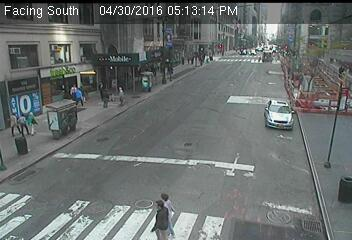neg: (295, 178, 319, 209), (222, 80, 243, 108), (304, 116, 325, 143), (230, 157, 247, 180), (137, 125, 154, 147), (9, 163, 25, 184), (7, 17, 23, 37), (219, 10, 234, 30), (53, 182, 67, 201), (160, 22, 174, 40), (202, 49, 215, 66), (50, 24, 63, 41), (75, 13, 88, 30), (284, 15, 296, 31), (241, 41, 253, 57), (69, 139, 81, 154), (310, 30, 321, 45), (112, 11, 121, 23), (264, 50, 272, 61), (28, 19, 35, 27)
pos: (151, 192, 181, 232), (145, 200, 174, 238), (20, 110, 39, 136), (4, 111, 23, 136), (14, 112, 30, 134), (72, 86, 87, 106), (99, 88, 114, 108), (114, 85, 129, 105), (67, 83, 81, 102), (95, 80, 108, 98), (164, 63, 177, 80)
